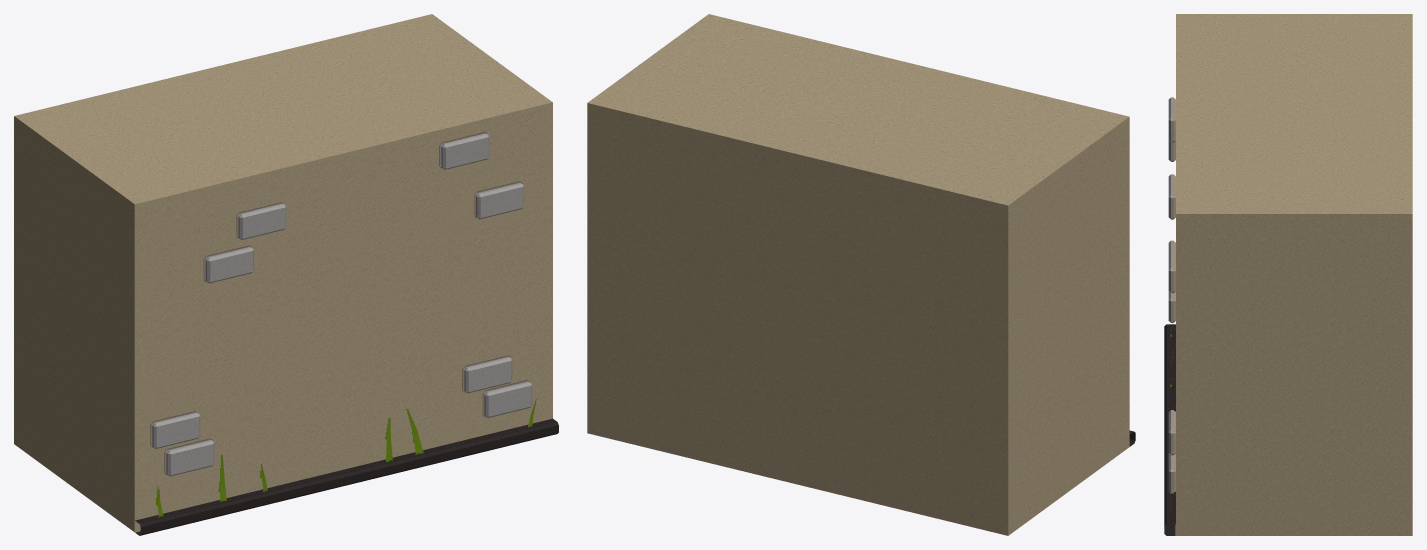
The model's file is wall_LOD0.fbx.
3 renders of one model, left to right at view 1: azimuth 30°, elevation 25°; view 2: azimuth 150°, elevation 25°; view 3: azimuth 270°, elevation 25°, orthographic. The views are drawn at different scales.
Parts seen in each view (by area): view 1: wall_LOD0; view 2: wall_LOD0; view 3: wall_LOD0.
Part boxes in pixels (bbox=[...]): wall_LOD0: bbox=[14, 14, 558, 535]; wall_LOD0: bbox=[587, 14, 1135, 535]; wall_LOD0: bbox=[1164, 14, 1412, 535].
Bounding box in the file's own units: 400 × 300 × 210.
